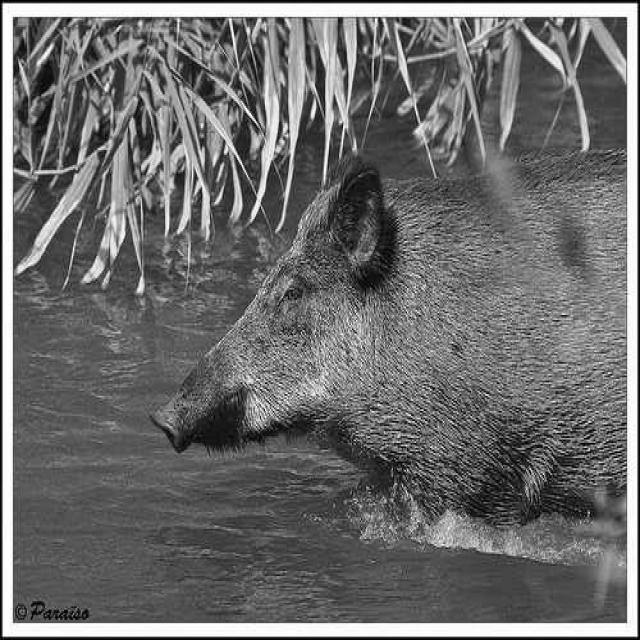boar: (152, 150, 623, 519)
